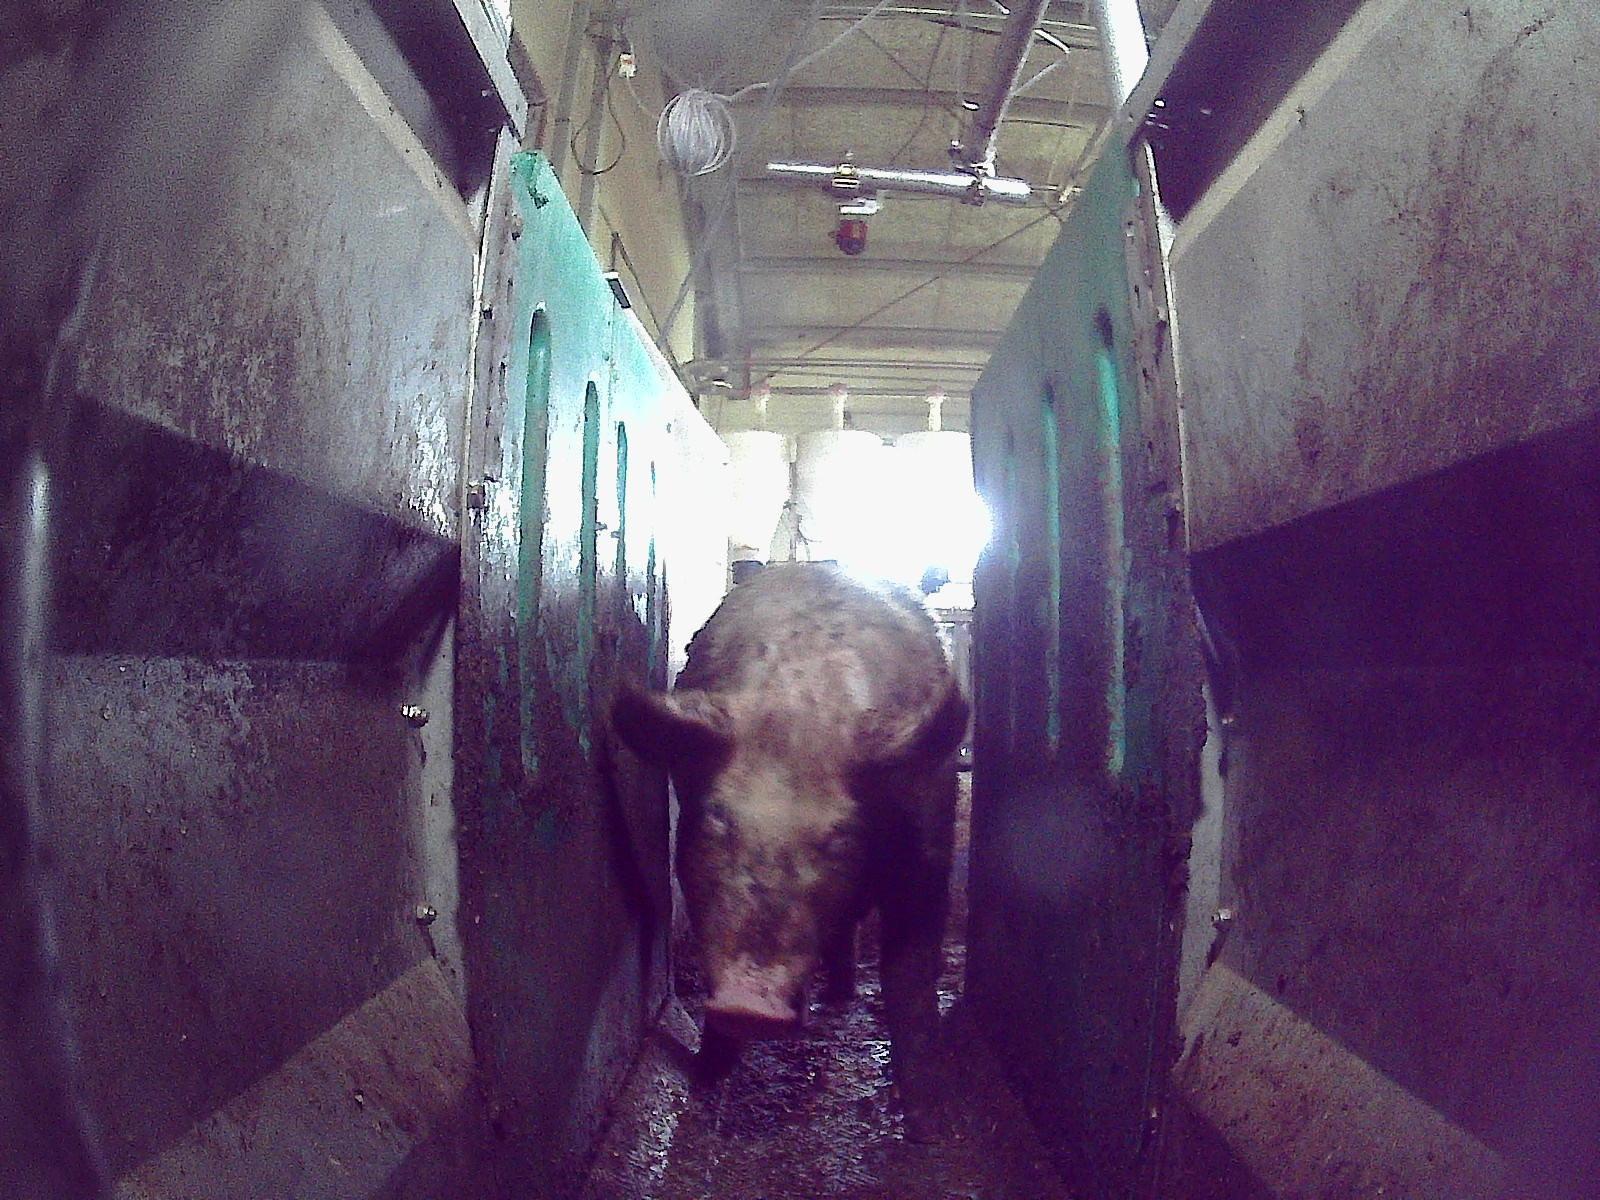Face: (671, 723, 874, 1035)
